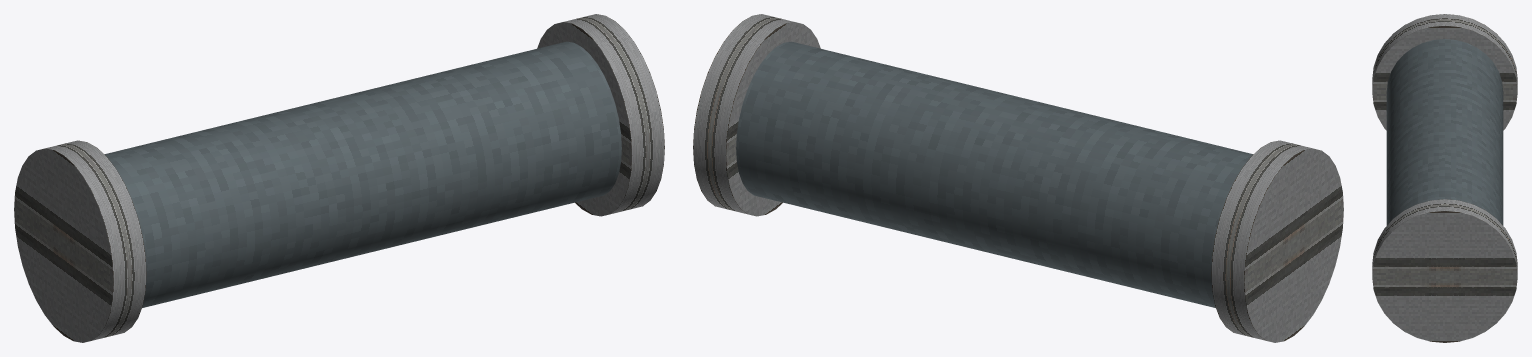
Rendered from nozzle.glb.
3 renders of one model, left to right at view 1: azimuth 30°, elevation 25°; view 2: azimuth 150°, elevation 25°; view 3: azimuth 270°, elevation 25°, orthographic. The views are drawn at different scales.
Parts seen in each view (by area): view 1: barrel, flange (×2); view 2: barrel, flange (×2); view 3: flange (×2), barrel.
Part boxes in pixels (left/top/right/bottom): barrel: left=105, top=41, right=621, bottom=307; flange (×2): left=14, top=14, right=664, bottom=342; barrel: left=736, top=41, right=1252, bottom=307; flange (×2): left=693, top=14, right=1343, bottom=342; flange (×2): left=1372, top=14, right=1517, bottom=342; barrel: left=1386, top=39, right=1503, bottom=225.
Size of the model in its own units: 0.32 by 0.1 by 0.1.
Materials: 2 (2 with a texture image).
